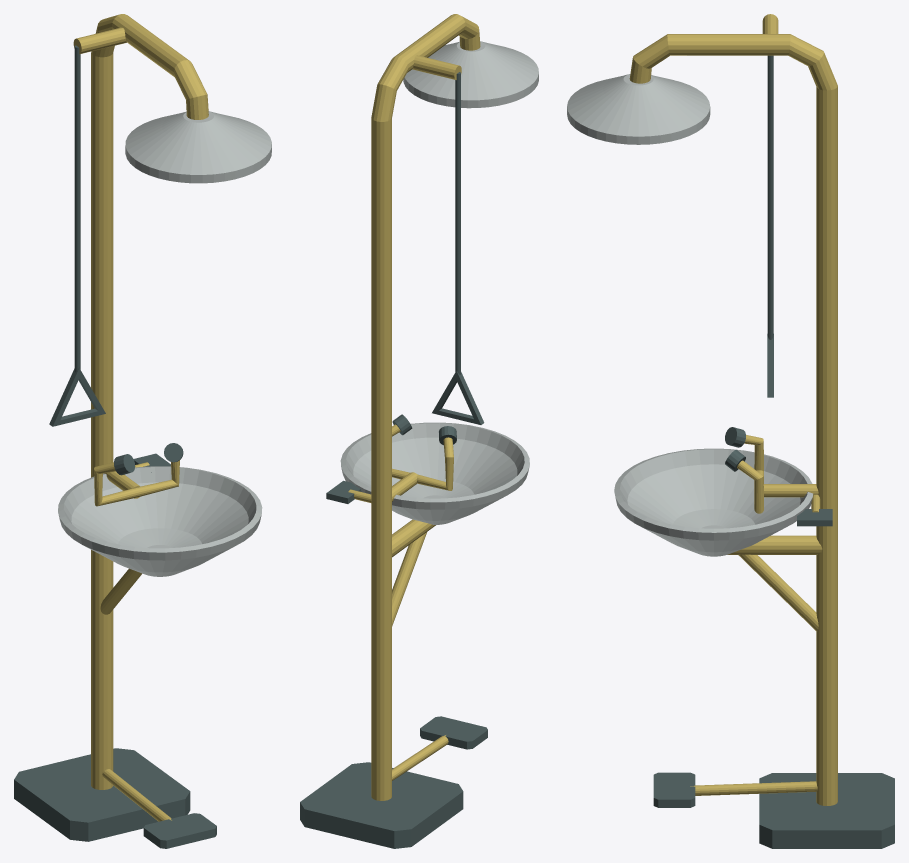
3 views of the same model, side by side, from view 1: azimuth 30°, elevation 25°; view 2: azimuth 150°, elevation 25°; view 3: azimuth 270°, elevation 25° (orthographic). The views are drawn at different scales.
Visible parts, largest first — view 1: WholeTallRiserAndOverheadReturn, WholeEmptyLowerBasin, WholeGroundFlange, WholeDownwardOpenHead, WholeLongPullRod, WholeFixedFootPad, WholeOpenTriangularPullHandle, WholeLowFixedFootLever, WholeUpperPullPivotSeat, WholePairedBentOutletStem-1, WholeBasinDiagonalBrace, WholePairedBentOutletStem1; view 2: WholeTallRiserAndOverheadReturn, WholeEmptyLowerBasin, WholeGroundFlange, WholeDownwardOpenHead, WholeLongPullRod, WholeFixedFootPad, WholeOpenTriangularPullHandle, WholeBasinDiagonalBrace, WholeBasinSideArm, WholePairedBentOutletStem-1, WholeUpperPullPivotSeat, WholeLowFixedFootLever (+1 smaller); view 3: WholeTallRiserAndOverheadReturn, WholeEmptyLowerBasin, WholeGroundFlange, WholeDownwardOpenHead, WholeLongPullRod, WholeFixedFootPad, WholeBasinSideArm, WholeBasinDiagonalBrace, WholeLowFixedFootLever, WholeRearSprayBranch.
Part boxes in pixels (x1,y1,x2,y2): WholeTallRiserAndOverheadReturn: [91, 14, 208, 789]; WholeEmptyLowerBasin: [58, 466, 262, 576]; WholeGroundFlange: [14, 748, 190, 841]; WholeDownwardOpenHead: [125, 111, 271, 183]; WholeLongPullRod: [74, 45, 80, 372]; WholeFixedFootPad: [143, 813, 216, 848]; WholeOpenTriangularPullHandle: [49, 368, 105, 426]; WholeLowFixedFootLever: [102, 769, 171, 821]; WholeUpperPullPivotSeat: [73, 27, 126, 54]; WholePairedBentOutletStem-1: [94, 462, 139, 506]; WholeBasinDiagonalBrace: [100, 568, 141, 614]; WholePairedBentOutletStem1: [137, 460, 179, 496]; WholeTallRiserAndOverheadReturn: [371, 14, 480, 800]; WholeEmptyLowerBasin: [340, 422, 529, 524]; WholeGroundFlange: [300, 762, 463, 848]; WholeDownwardOpenHead: [403, 41, 538, 108]; WholeLongPullRod: [455, 72, 460, 374]; WholeFixedFootPad: [420, 716, 487, 749]; WholeOpenTriangularPullHandle: [432, 371, 484, 424]; WholeBasinDiagonalBrace: [392, 532, 426, 626]; WholeBasinSideArm: [392, 519, 435, 557]; WholePairedBentOutletStem-1: [417, 437, 453, 490]; WholeUpperPullPivotSeat: [412, 55, 461, 79]; WholeLowFixedFootLever: [392, 735, 448, 780]; WholeTallRiserAndOverheadReturn: [629, 34, 837, 805]; WholeEmptyLowerBasin: [614, 448, 813, 556]; WholeGroundFlange: [759, 773, 894, 848]; WholeDownwardOpenHead: [567, 74, 710, 144]; WholeLongPullRod: [767, 55, 773, 339]; WholeFixedFootPad: [653, 772, 695, 807]; WholeBasinSideArm: [727, 535, 822, 554]; WholeBasinDiagonalBrace: [738, 554, 818, 631]; WholeLowFixedFootLever: [690, 781, 817, 795]; WholeRearSprayBranch: [763, 484, 818, 497].
Size of the model in its own units: 0.53 by 2.3 by 0.87.
